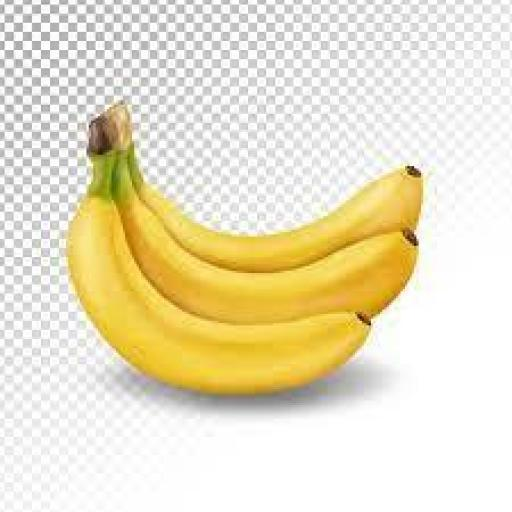banana: (69, 153, 368, 393), (114, 155, 416, 323), (130, 146, 423, 270)
